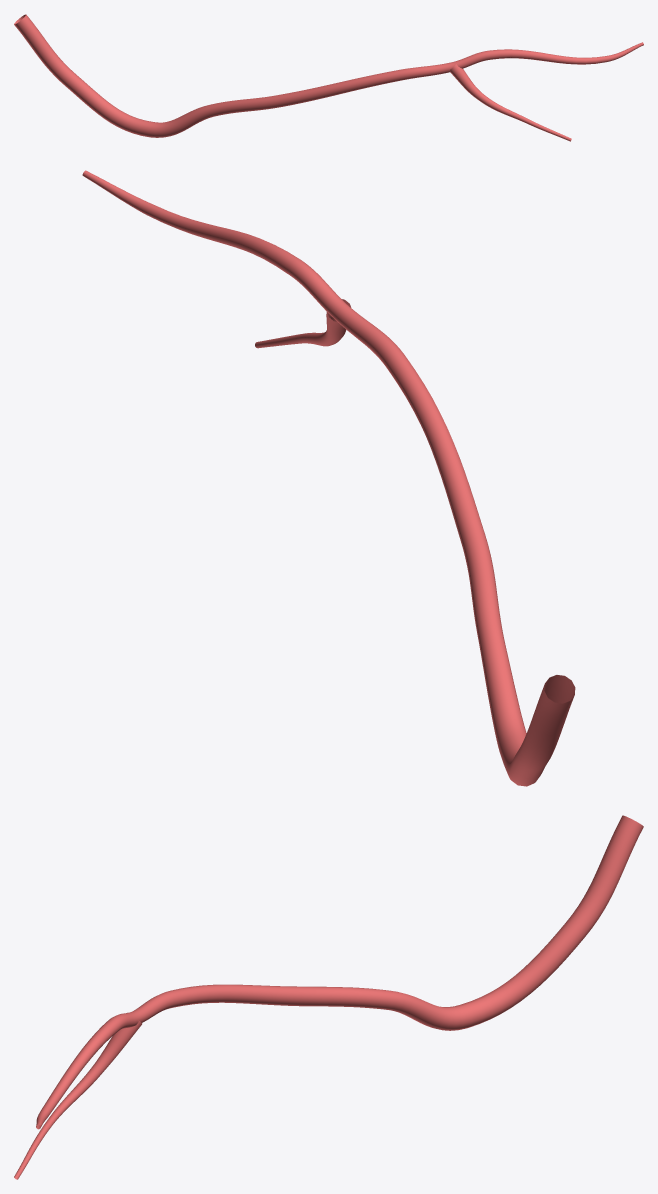
Rendered from Superior_labial_artery.r_BezierCurve.265.glb.
3 renders of one model, top to bottom at view 1: azimuth 30°, elevation 25°; view 2: azimuth 150°, elevation 25°; view 3: azimuth 270°, elevation 25°, orthographic. The views are drawn at different scales.
Visible parts, largest first — view 1: Superior_labial_artery.r_BezierCurve.265; view 2: Superior_labial_artery.r_BezierCurve.265; view 3: Superior_labial_artery.r_BezierCurve.265.
Part boxes in pixels (x1=…): Superior_labial_artery.r_BezierCurve.265: x1=14, y1=14, x2=643, y2=141; Superior_labial_artery.r_BezierCurve.265: x1=82, y1=170, x2=575, y2=786; Superior_labial_artery.r_BezierCurve.265: x1=14, y1=815, x2=643, y2=1179.
Bounding box in the file's own units: 0.0315 × 0.00793 × 0.0255.
